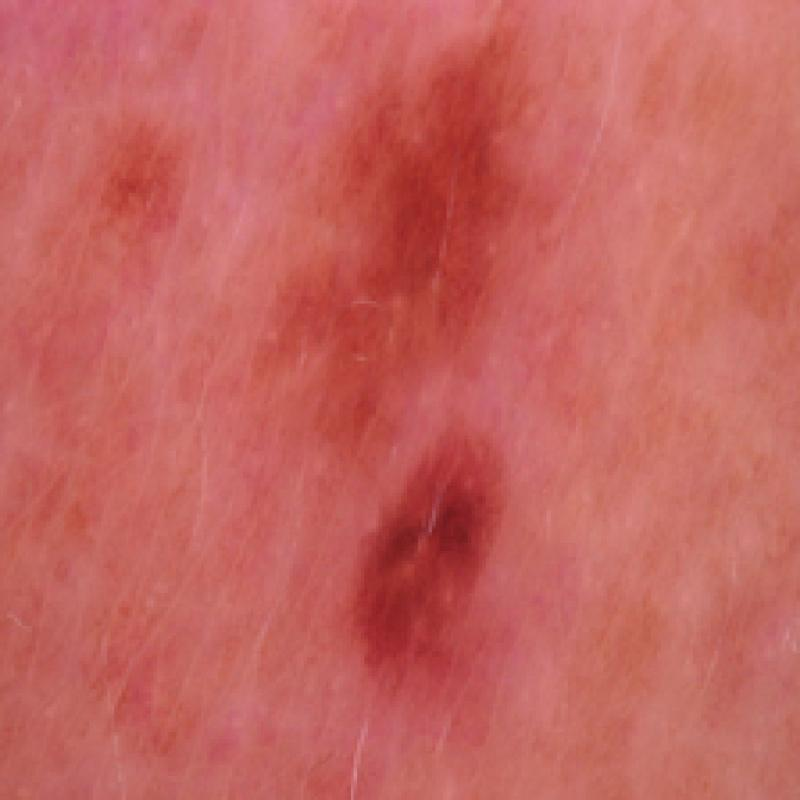benign: (268, 33, 588, 426), (351, 406, 528, 696), (70, 101, 218, 302)
